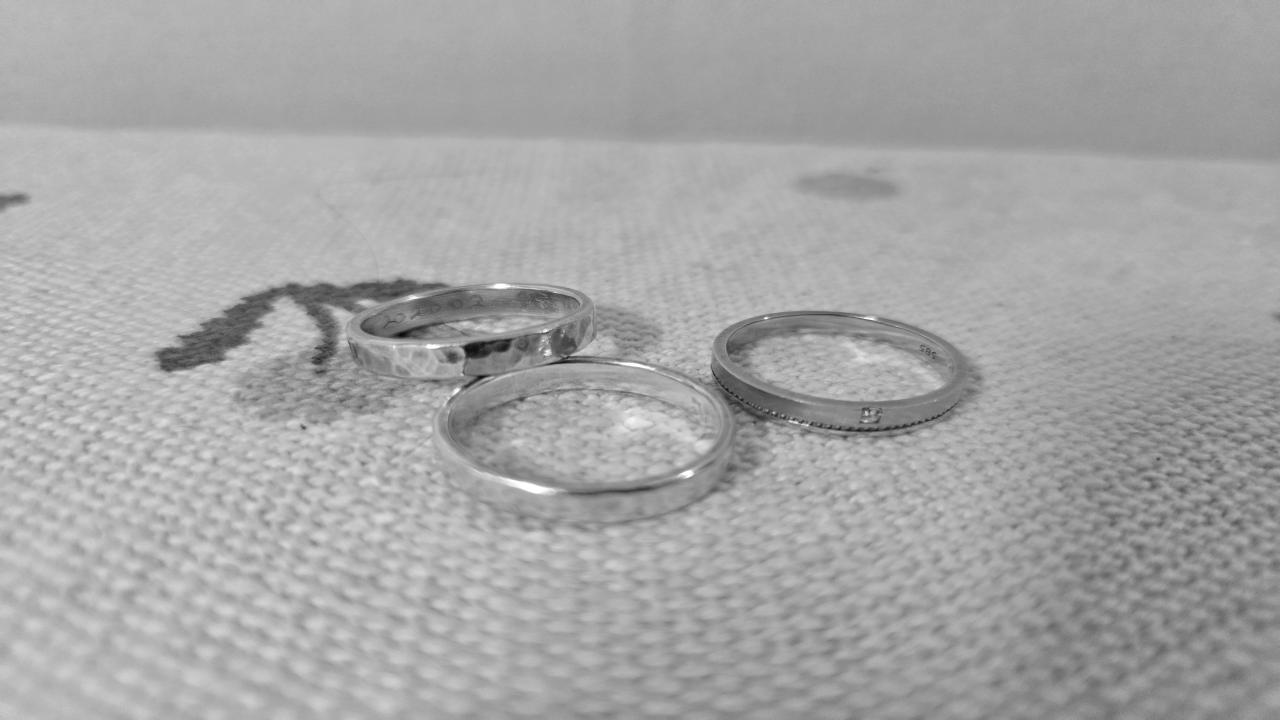ring: (434, 359, 734, 522), (710, 309, 971, 435), (343, 282, 598, 383)
